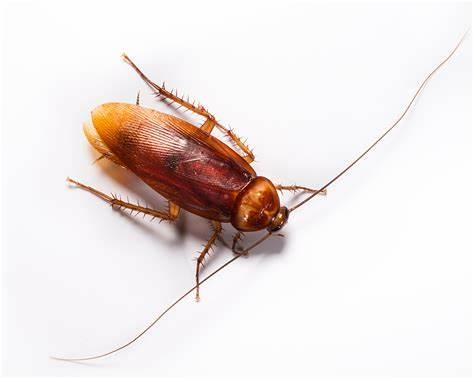cockroach: (82, 84, 292, 258)
